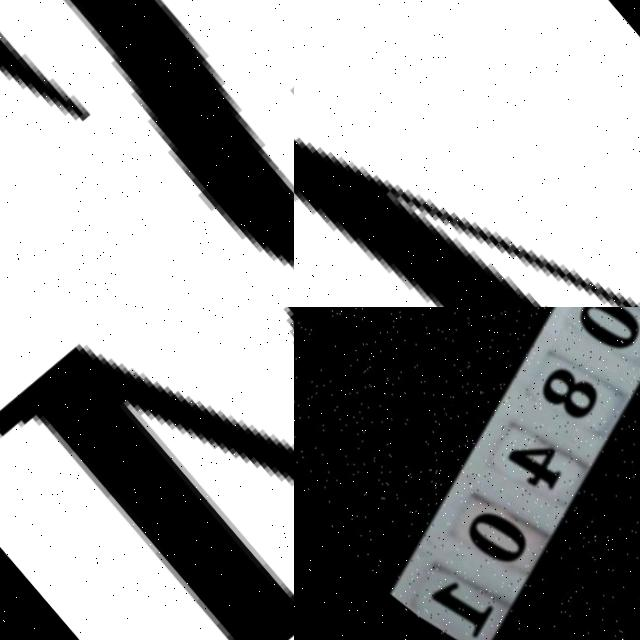0: (439, 468, 554, 590), (545, 307, 640, 379)
1: (401, 535, 518, 640)
4: (473, 390, 595, 520)
8: (510, 322, 626, 445)
A: (294, 0, 640, 307)
M: (0, 307, 294, 640)
S: (0, 0, 294, 307)
